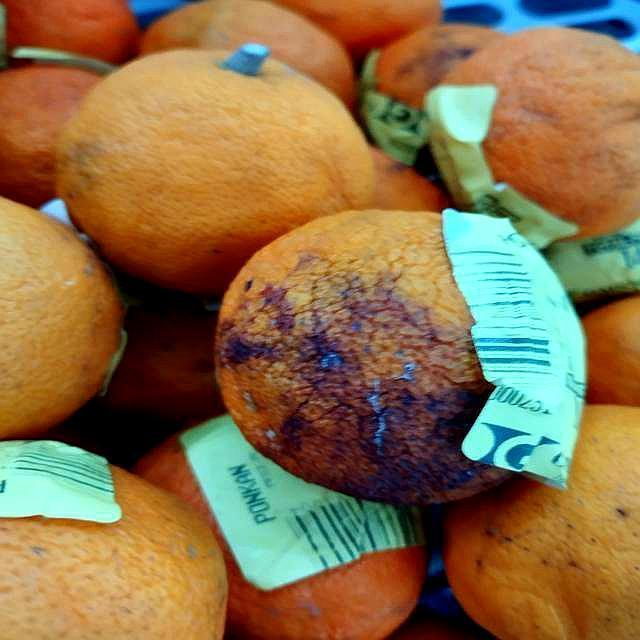Biodegradable: (199, 199, 497, 505), (65, 43, 359, 299), (363, 1, 640, 237), (445, 397, 640, 637), (1, 463, 233, 640), (1, 197, 125, 435)
